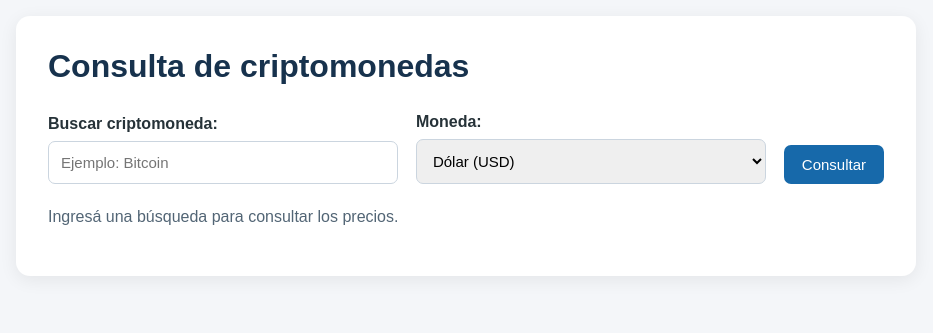
Test case: Home - consultas de criptomonedas › debe mostrar un mensaje cuando ocurre un error
Type "Bitcoin" into the field labelled "Buscar criptomoneda:" at (223, 162), box left=48, top=141, right=398, bottom=184
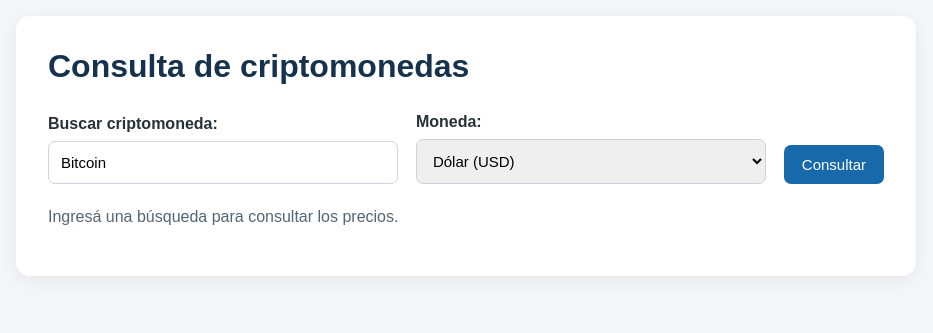
Click the button "Consultar" at (834, 164), box left=784, top=145, right=884, bottom=184
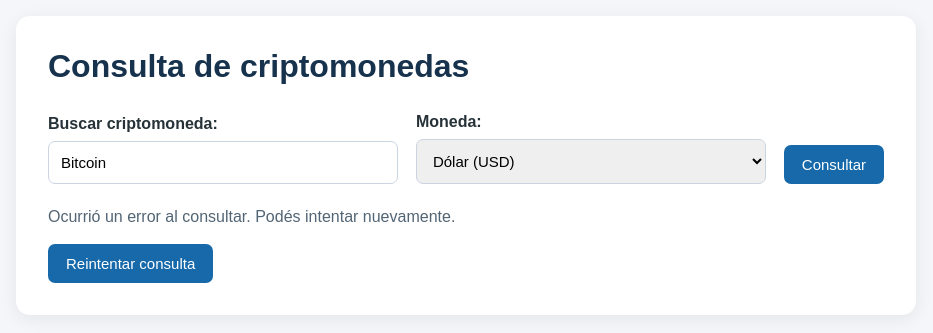
Expected: the text "Ocurrió un error al consultar. Podés intentar nuevamente." is shown, left=48, top=208, right=455, bottom=225
Expected: the button "Reintentar consulta" is shown, left=48, top=244, right=213, bottom=283
